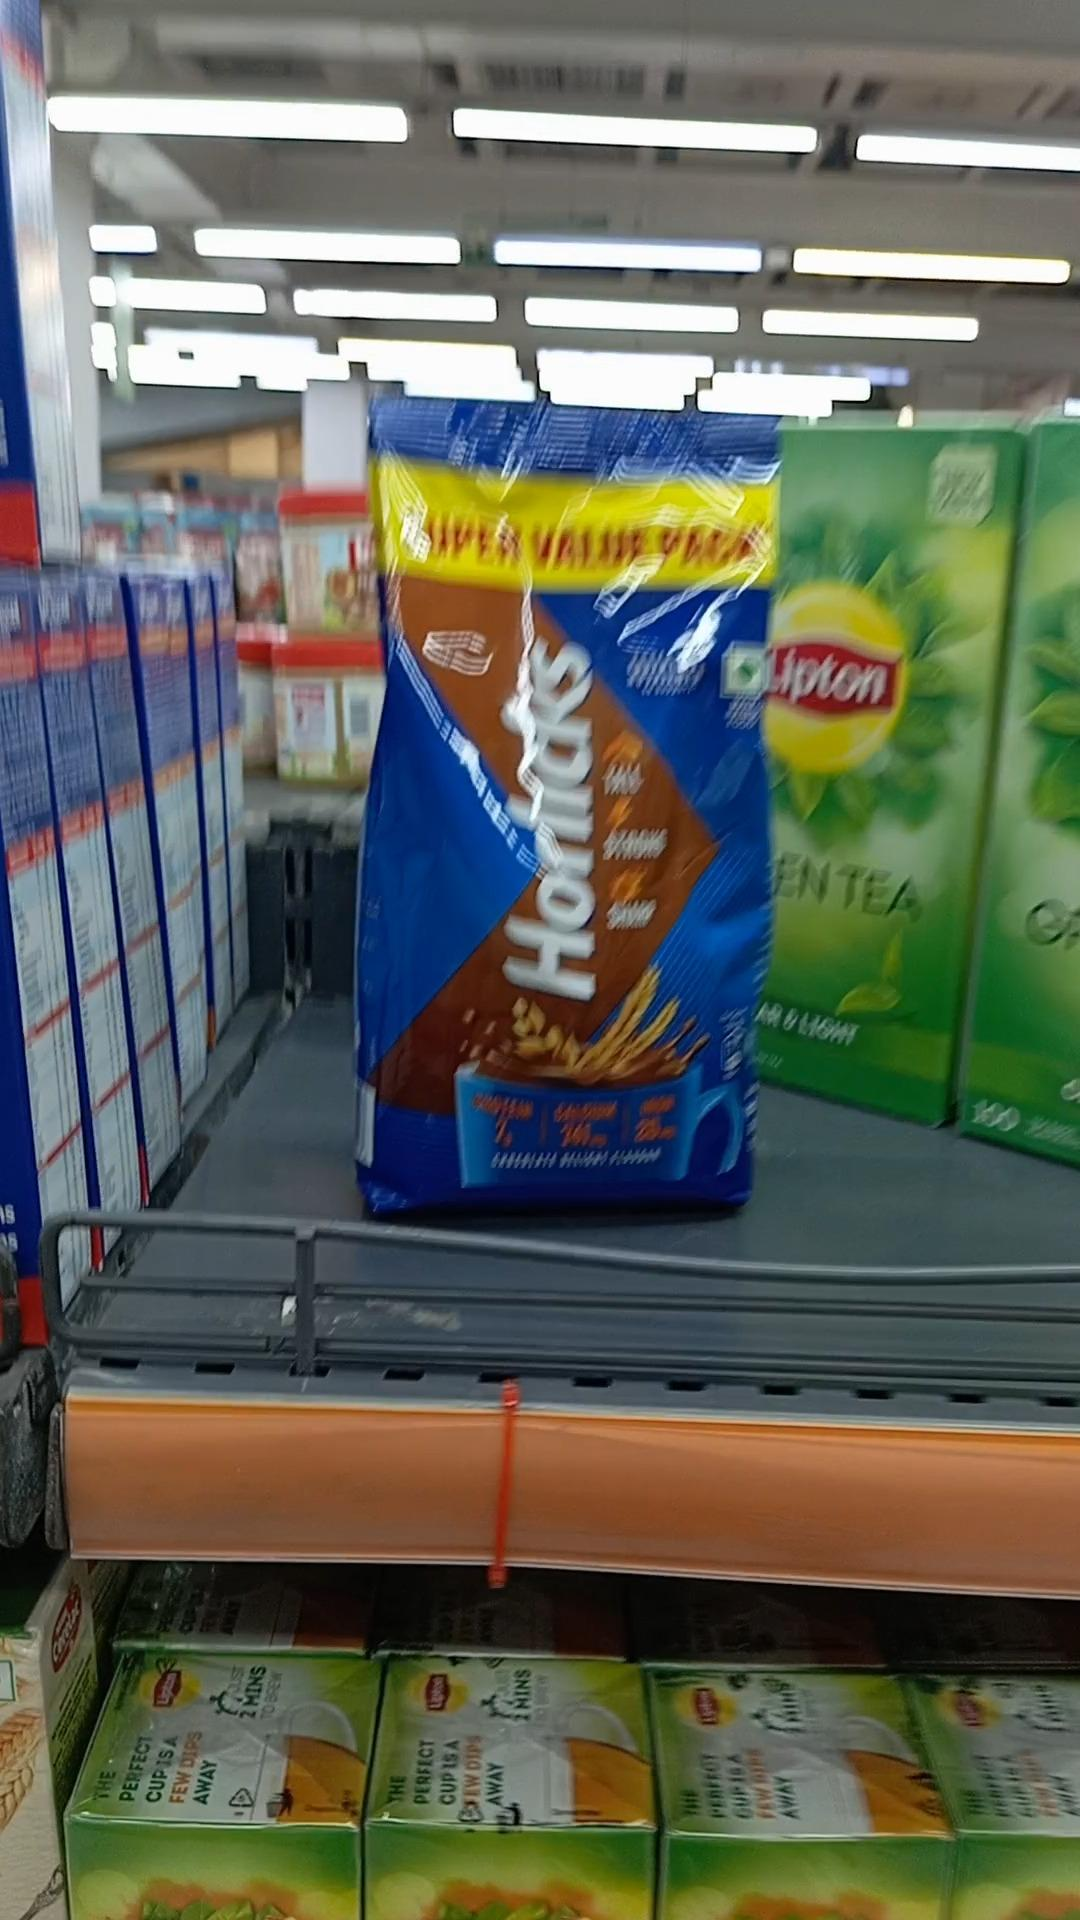HORLICK_CHOCOLATE_750_G_POUCH: (364, 393, 760, 1205)
